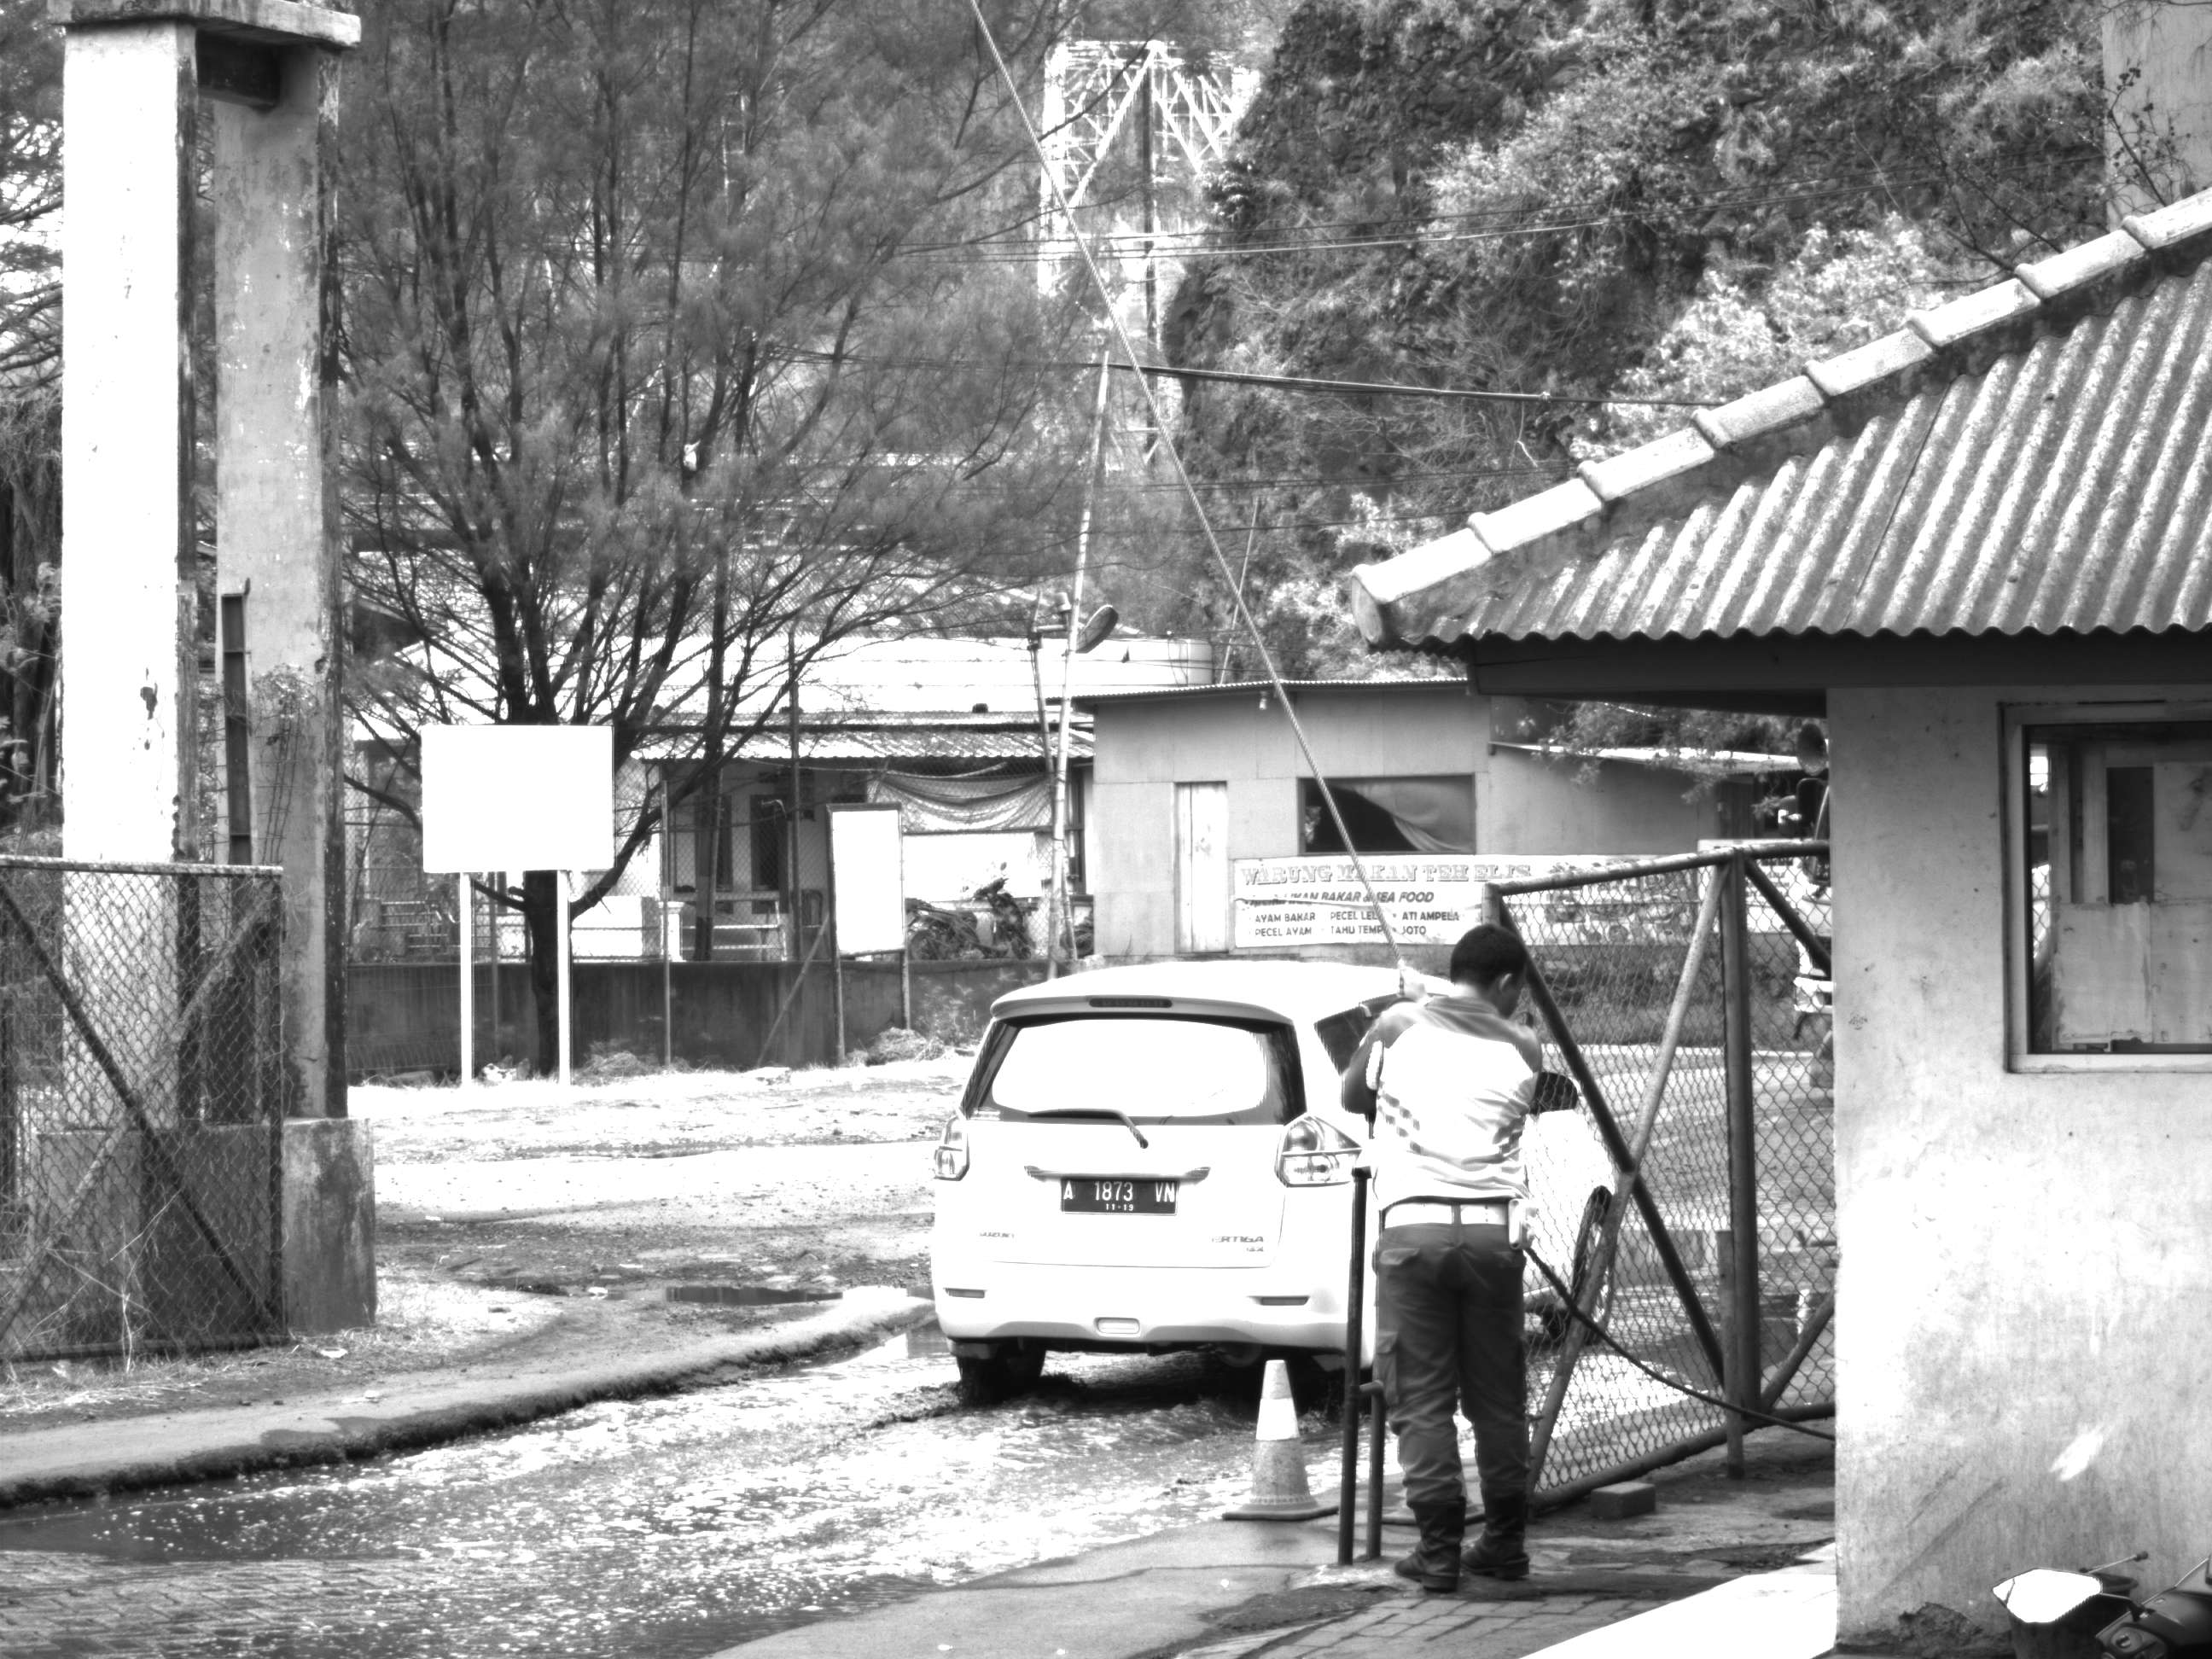day_small_rear: (923, 967, 1391, 1426)
plate: (1058, 1172, 1183, 1220)
